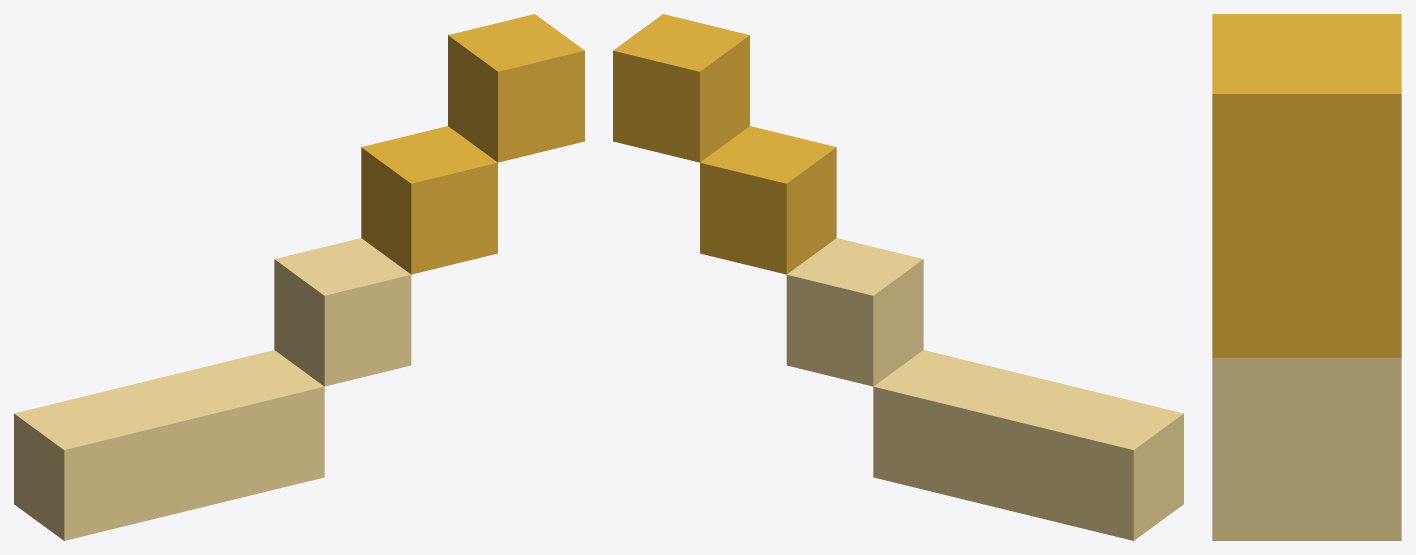
File: woman-11-right_hand_attack.obj
The picture shows the model from 3 angles, left to right: view 1: azimuth 30°, elevation 25°; view 2: azimuth 150°, elevation 25°; view 3: azimuth 270°, elevation 25°; orthographic projection. The views are drawn at different scales.
Visible parts, largest first — view 1: right_hand_attack; view 2: right_hand_attack; view 3: right_hand_attack.
Part boxes in pixels (x1,y1,x2,y2): right_hand_attack: (14, 14, 584, 540); right_hand_attack: (613, 14, 1183, 540); right_hand_attack: (1212, 14, 1401, 540).
Bounding box in the file's own units: 0.6 × 0.4 × 0.1.
1 material, 1 textured.
